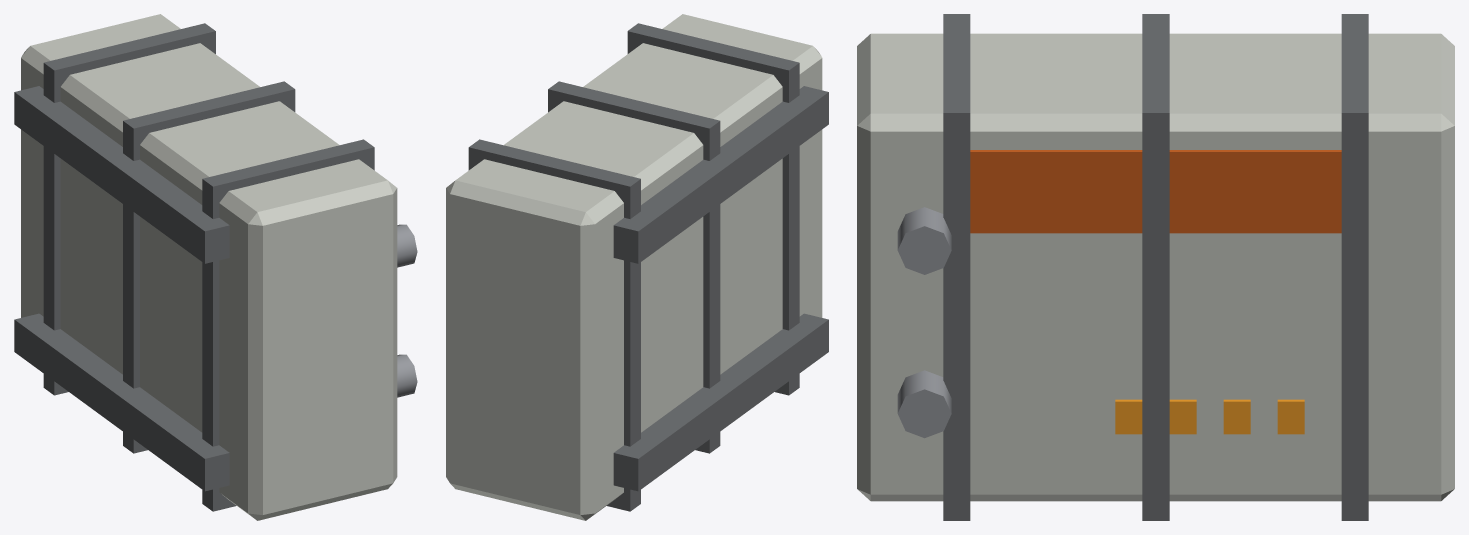
Rendered from u70_field_ctl.obj.
The picture shows the model from 3 angles, left to right: view 1: azimuth 30°, elevation 25°; view 2: azimuth 150°, elevation 25°; view 3: azimuth 270°, elevation 25°; orthographic projection. The views are drawn at different scales.
Parts seen in each view (by area): view 1: u70_field_ctl; view 2: u70_field_ctl; view 3: u70_field_ctl.
Boxes of the visible parts, bbox=[...] form: u70_field_ctl: bbox=[14, 14, 417, 520]; u70_field_ctl: bbox=[446, 14, 828, 520]; u70_field_ctl: bbox=[857, 14, 1454, 520].
Size of the model in its own units: 0.66 by 1 by 1.33.
